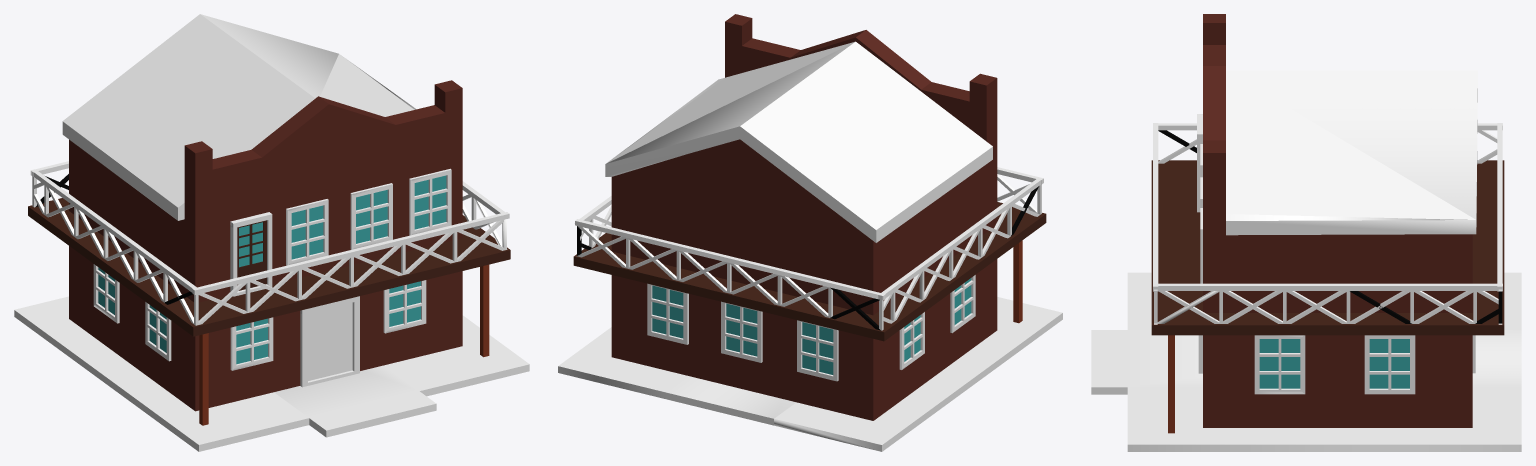
Rendered from piętrowy z balkonem i białymi oknami.FBX.
3 renders of one model, left to right at view 1: azimuth 30°, elevation 25°; view 2: azimuth 150°, elevation 25°; view 3: azimuth 270°, elevation 25°, orthographic. The views are drawn at different scales.
Visible parts, largest first — view 1: Box002; view 2: Box002; view 3: Box002.
Part boxes in pixels (x1,y1,x2,y2): Box002: (14,14,529,451); Box002: (558,14,1062,451); Box002: (1091,14,1521,451).
Bounding box in the file's own units: 112 × 91.01 × 118.
